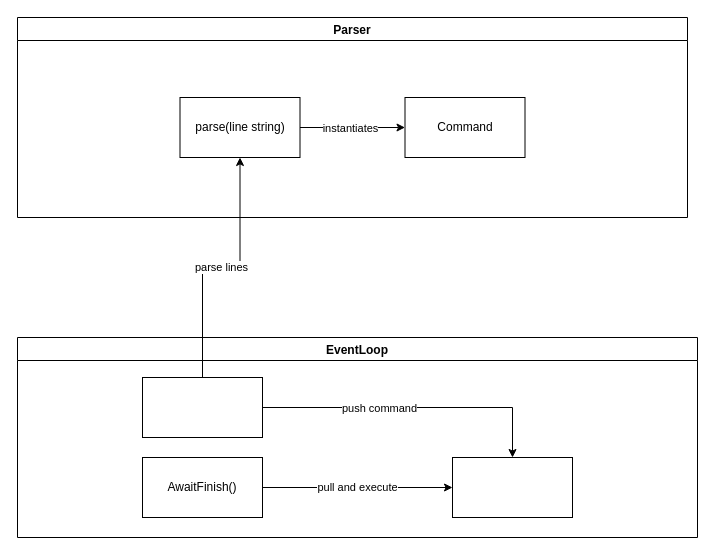
Image size: 715x555. Some labels were removed from this diagram. The centre of each missing label's shape, as x and y in pixels:
"CommandQueue" goes at pixel 512 487.
"parseScanner()" goes at pixel 202 407.
